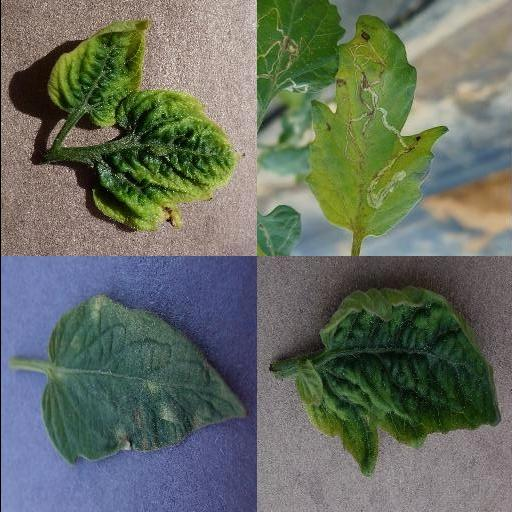Leaf Miner: (304, 15, 450, 237)
Leaf Mold: (38, 293, 250, 465)
Yellow Leaf Curl Virus: (294, 284, 502, 476), (89, 90, 235, 230), (45, 20, 149, 128)
